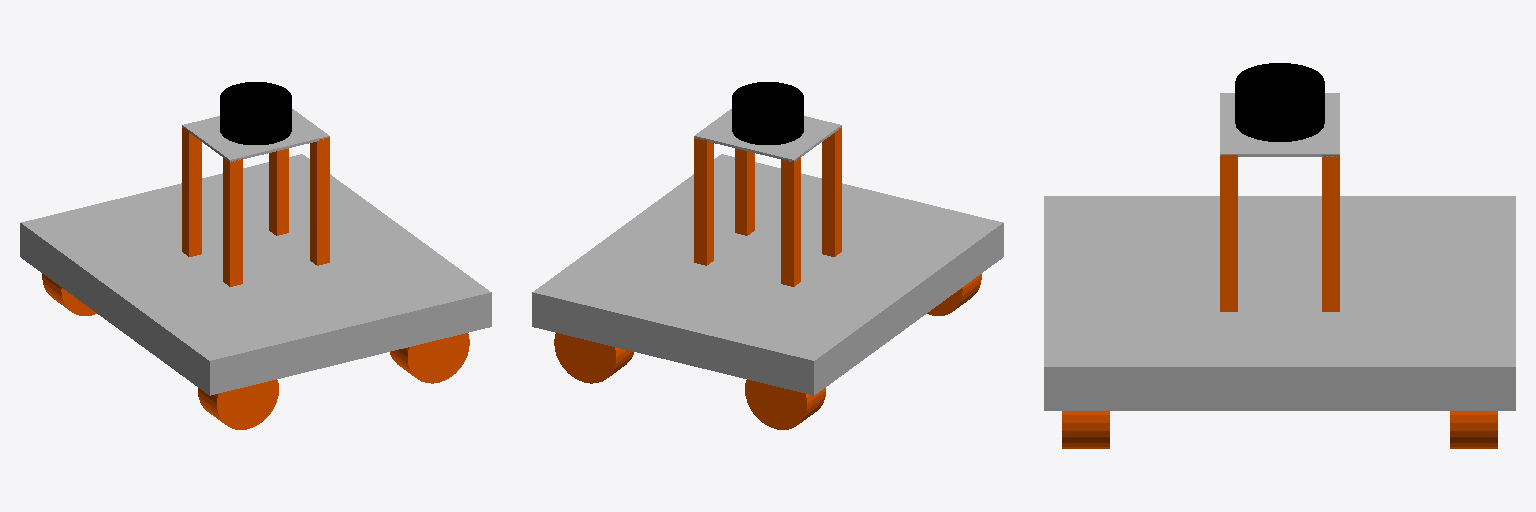
URDF robot description (xbot):
<?xml version="1.0" ?>
<robot name="xbot">

    <link name="base_link">
        <visual>
            <origin xyz=" 0 0 0" rpy="0 0 0" />
            <geometry>
                <box size="0.34 0.395 0.04" />
            </geometry>
            <material name="gray">
                <color rgba="0.75 0.75 0.75 1"/>
            </material>
        </visual>
    </link>

        <joint name="base_footprint_joint" type="fixed">
            <origin xyz="0 0 0.0975" rpy="0 0 0" />        
            <parent link="base_footprint"/>
            <child link="base_link" />
        </joint>

 <link name="base_footprint">
            <visual>
                <origin xyz="0 0 0" rpy="0 0 0" />
                <geometry>
                    <box size="0.001 0.001 0.001" />
                </geometry>
            </visual>
        </link>
        
    <joint name="left_up_wheel_joint" type="continuous">
        <origin xyz="0.115 0.1625 -0.04" rpy="0 0 0"/>
        <parent link="base_link"/>
        <child link="left_up_wheel_link"/>
        <axis xyz="0 1 0"/>
    </joint>


   <link name="left_up_wheel_link">
        <visual>
            <origin xyz="0 0 0" rpy="1.5707 0 0" />
            <geometry>
                <cylinder radius="0.0375" length = "0.04"/>
            </geometry>
            <material name="yellow">
                <color rgba="1 0.4 0 1"/>
            </material>
        </visual>
    </link>

   <joint name="right_up_wheel_joint" type="continuous">
        <origin xyz="-0.115 0.1625 -0.04" rpy="0 0 0"/>
        <parent link="base_link"/>
        <child link="right_up_wheel_link"/>
        <axis xyz="0 1 0"/>
    </joint>

   <link name="right_up_wheel_link">
        <visual>
            <origin xyz="0 0 0" rpy="1.5707 0 0" />
            <geometry>
                <cylinder radius="0.0375" length = "0.04"/>
            </geometry>
            <material name="yellow">
                <color rgba="1 0.4 0 1"/>
            </material>
        </visual>
    </link>

 <joint name="left_down_wheel_joint" type="continuous">
        <origin xyz="0.115 -0.1625 -0.04" rpy="0 0 0"/>
        <parent link="base_link"/>
        <child link="left_down_wheel_link"/>
        <axis xyz="0 1 0"/>
    </joint>

   <link name="left_down_wheel_link">
        <visual>
            <origin xyz="0 0 0" rpy="1.5707 0 0" />
            <geometry>
                <cylinder radius="0.0375" length = "0.04"/>
            </geometry>
            <material name="yellow">
                <color rgba="1 0.4 0 1"/>
            </material>
        </visual>
    </link>

   <joint name="right_down_wheel_joint" type="continuous">
        <origin xyz="-0.115 -0.1625 -0.04" rpy="0 0 0"/>
        <parent link="base_link"/>
        <child link="right_down_wheel_link"/>
        <axis xyz="0 1 0"/>
    </joint>

   <link name="right_down_wheel_link">
        <visual>
            <origin xyz="0 0 0" rpy="1.5707 0 0" />
            <geometry>
                <cylinder radius="0.0375" length = "0.04"/>
            </geometry>
            <material name="yellow">
                <color rgba="1 0.4 0 1"/>
            </material>
        </visual>
    </link>

  <joint name="left_up_support_joint" type="fixed">
        <origin xyz="0.0525 0.0425 0.0925" rpy="0 0 0"/>
        <parent link="base_link"/>
        <child link="left_up_support"/>
        <axis xyz="0 0 0"/>
    </joint>


    <link name="left_up_support"> 
        <visual>
            <origin xyz=" 0 0 0" rpy="0 0 0" />
            <geometry>
                <box size="0.015 0.015 0.145" />
            </geometry>
            <material name="yellow">
                <color rgba="1 0.4 0 1"/>
            </material>
        </visual>
    </link>

<joint name="right_up_support_joint" type="fixed">
        <origin xyz="-0.0525 0.0425 0.0925" rpy="0 0 0"/>
        <parent link="base_link"/>
        <child link="right_up_support"/>
        <axis xyz="0 0 0"/>
    </joint>


    <link name="right_up_support"> 
        <visual>
            <origin xyz=" 0 0 0" rpy="0 0 0" />
            <geometry>
                <box size="0.015 0.015 0.145" />
            </geometry>
            <material name="yellow">
                <color rgba="1 0.4 0 1"/>
            </material>
        </visual>
    </link>

<joint name="left_down_support_joint" type="fixed">
        <origin xyz="0.0525 -0.0425 0.0925" rpy="0 0 0"/>
        <parent link="base_link"/>
        <child link="left_down_support"/>
        <axis xyz="0 0 0"/>
    </joint>


    <link name="left_down_support"> 
        <visual>
            <origin xyz=" 0 0 0" rpy="0 0 0" />
            <geometry>
                <box size="0.015 0.015 0.145" />
            </geometry>
            <material name="yellow">
                <color rgba="1 0.4 0 1"/>
            </material>
        </visual>
    </link>

<joint name="right_down_support_joint" type="fixed">
        <origin xyz="-0.0525 -0.0425 0.0925" rpy="0 0 0"/>
        <parent link="base_link"/>
        <child link="right_down_support"/>
        <axis xyz="0 0 0"/>
    </joint>


    <link name="right_down_support"> 
        <visual>
            <origin xyz=" 0 0 0" rpy="0 0 0" />
            <geometry>
                <box size="0.015 0.015 0.145" />
            </geometry>
            <material name="yellow">
                <color rgba="1 0.4 0 1"/>
            </material>
        </visual>
    </link>

<joint name="support_link_joint" type="fixed">
        <origin xyz="0 0 0.165" rpy="0 0 0"/>
        <parent link="base_link"/>
        <child link="support_link"/>
        <axis xyz="0 1 0"/>
    </joint>


 <link name="support_link">
        <visual>
            <origin xyz=" 0 0 0" rpy="0 0 0" />
            <geometry>
                <box size="0.12 0.1 0.003" />
            </geometry>
            <material name="gray">
                <color rgba="0.75 0.75 0.75 1"/>
            </material>
        </visual>
    </link>

   
   <link name="kinect_link">
        <visual>
            <origin xyz="0 0 0" rpy="0 0 1.5708"/>
            <geometry>
                <mesh filename="package://xbot_description/meshes/kinect.dae" />
            </geometry>
        </visual>
    </link>

    <joint name="kinect_joint" type="fixed">
        <origin xyz="0.13 0 0.05" rpy="0 0 0"/>
        <parent link="base_link"/>
        <child link="kinect_link"/>
    </joint>

    <link name="laser_link">
        <visual>
            <origin xyz="0 0 0" rpy="0 0 0" />
            <geometry>
                <cylinder radius="0.0375" length = "0.04"/>
            </geometry>
            <material name="black">
                <color rgba="0 0 0 0.95"/>
            </material>
        </visual>
    </link>

   <joint name="laser_joint" type="fixed">
        <origin xyz="0 0 0.185" rpy="0 0 0"/>
        <parent link="base_link"/>
        <child link="laser_link"/>
        <axis xyz="0 1 0"/>
    </joint>

</robot>

--- What the picture shows (computed from the rendered views, not written in the file) ---
3 views of the same robot in one strip: view 1: azimuth 30°, elevation 25°; view 2: azimuth 150°, elevation 25°; view 3: azimuth 270°, elevation 25° (orthographic).
Robot: xbot — 13 links, 12 joints (4 continuous, 8 fixed); root link base_footprint; default pose: every joint at zero.
Visible links, largest first — view 1: base_link, laser_link, right_down_wheel_link, support_link, left_down_wheel_link, right_down_support, left_down_support, right_up_support, left_up_support, right_up_wheel_link; view 2: base_link, laser_link, right_up_wheel_link, support_link, left_up_wheel_link, right_up_support, left_up_support, right_down_support, left_down_support, right_down_wheel_link; view 3: base_link, laser_link, support_link, left_down_support, left_up_support, left_up_wheel_link, left_down_wheel_link.
Boxes of the visible links, x1,y1,x2,y2 form: base_link: (20,154,491,395); laser_link: (220,82,291,144); right_down_wheel_link: (198,379,278,429); support_link: (182,109,329,162); left_down_wheel_link: (390,333,469,383); right_down_support: (223,158,242,286); left_down_support: (310,137,329,265); right_up_support: (182,128,201,256); left_up_support: (269,148,288,235); right_up_wheel_link: (42,274,96,315); base_link: (532,154,1003,395); laser_link: (732,82,803,144); right_up_wheel_link: (745,379,825,429); support_link: (694,109,841,161); left_up_wheel_link: (554,333,633,383); right_up_support: (781,156,800,286); left_up_support: (694,138,713,265); right_down_support: (822,126,841,256); left_down_support: (735,148,754,235); right_down_wheel_link: (927,274,981,315); base_link: (1044,196,1515,410); laser_link: (1235,63,1324,141); support_link: (1220,93,1339,156); left_down_support: (1220,155,1237,311); left_up_support: (1322,155,1339,311); left_up_wheel_link: (1450,411,1497,448); left_down_wheel_link: (1062,411,1109,448).
Bounding box of the posed robot: 0.34 × 0.395 × 0.303 m (x, y, z).
Meshes: 1 distinct files referenced, 0 mesh visuals loaded (none loaded); not drawn: 1 (reference not matched to a file when rendering).